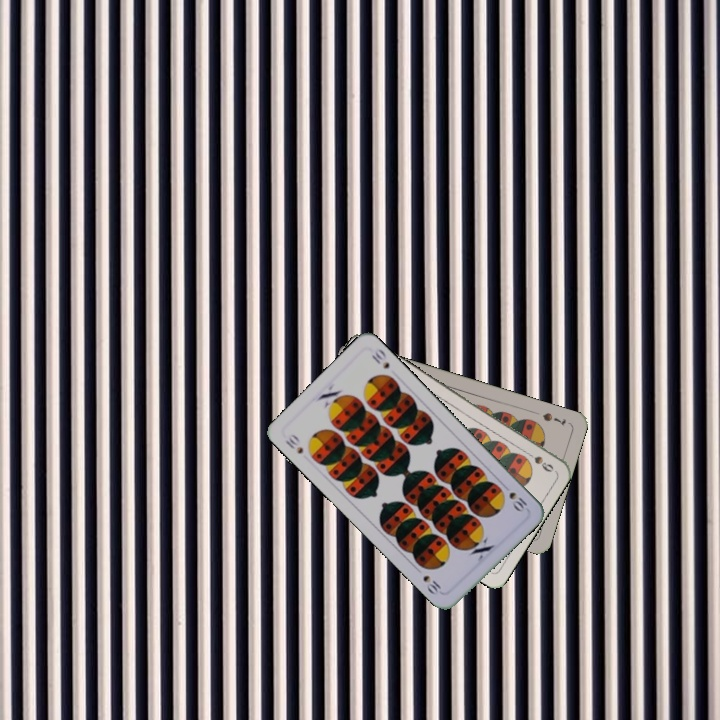S10: (499, 480, 530, 515), (281, 430, 306, 456)
S7: (538, 409, 569, 428)
S9: (520, 447, 556, 475)
